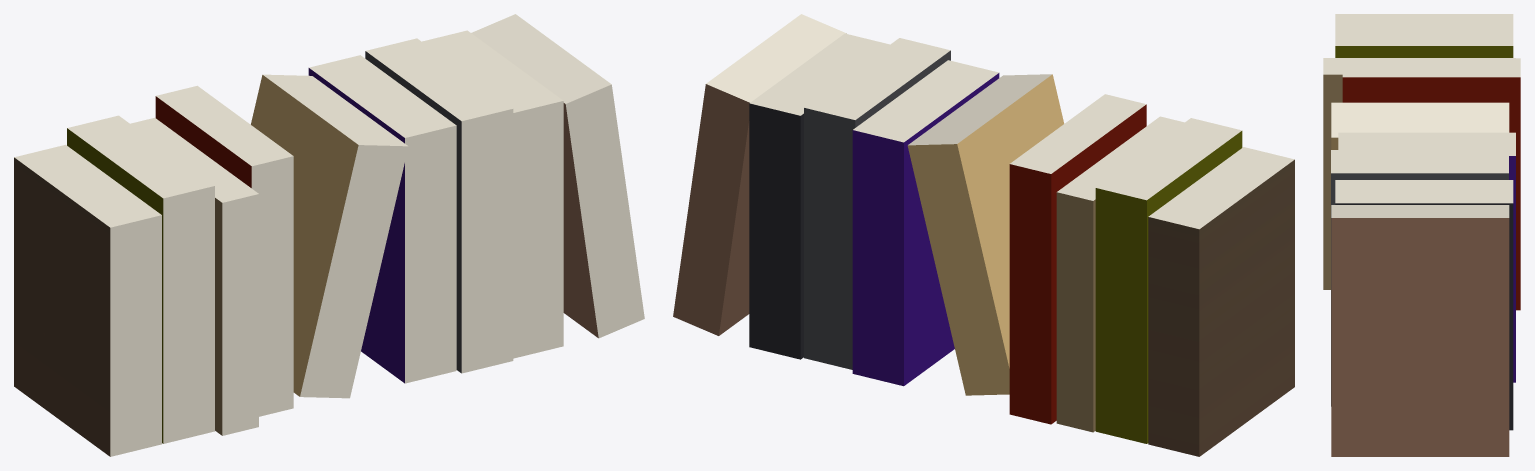
Rendered from Book_7.fbx.
The picture shows the model from 3 angles, left to right: view 1: azimuth 30°, elevation 25°; view 2: azimuth 150°, elevation 25°; view 3: azimuth 270°, elevation 25°; orthographic projection. The views are drawn at different scales.
Parts seen in each view (by area): view 1: pCube782; view 2: pCube782; view 3: pCube782.
Boxes of the visible parts, left/top/right/bottom form: pCube782: left=14, top=14, right=644, bottom=456; pCube782: left=673, top=14, right=1294, bottom=456; pCube782: left=1323, top=14, right=1520, bottom=456.
Size of the model in its own units: 77.3 by 35.17 by 26.82.
